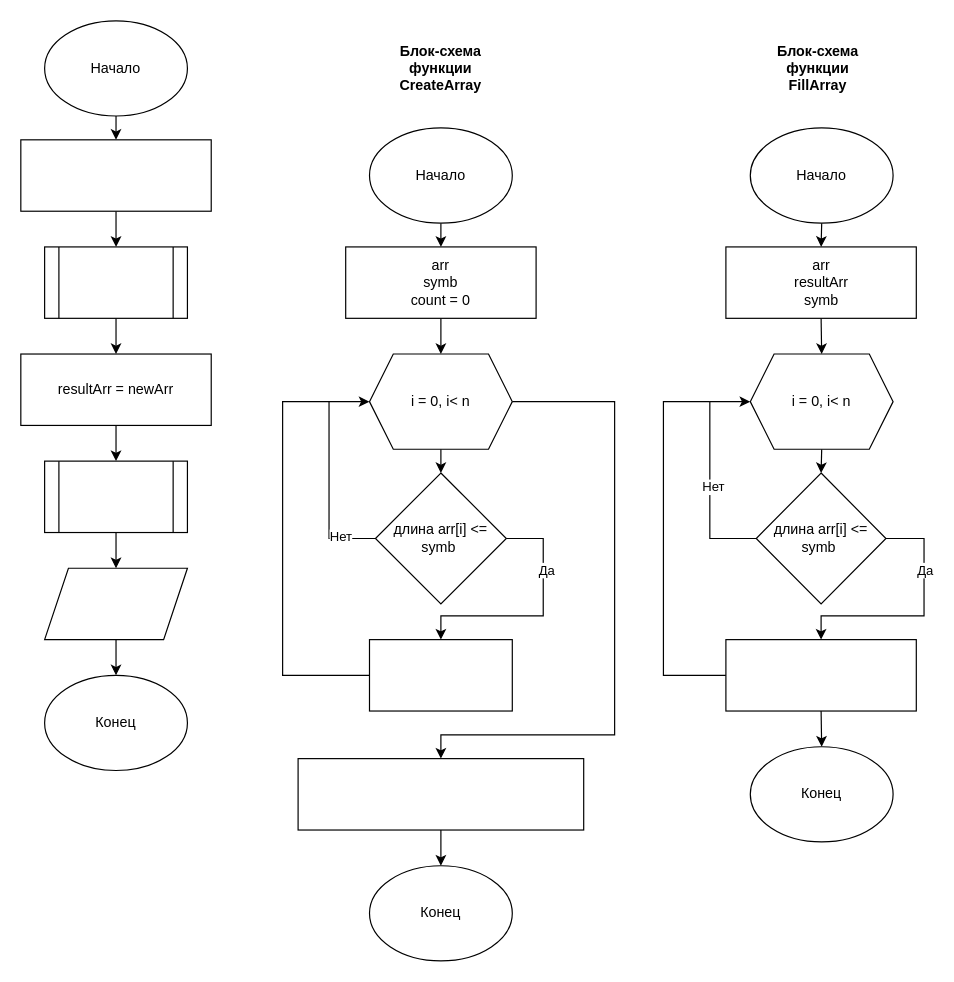
This 954x982 diagram has some shape labels left out. The shapes that lost their labels are listed below. From the top down, each one's centre as x and y in pixels, then its label:
At [115,175]: "arr = arr[0]...arr[n] count = 0 symb = 3".
At [115,282]: "CreateArray".
At [115,496]: "FillArray".
At [115,603]: "resultArr".
At [440,674]: "count += 1".
At [820,674]: "resultArr[count] = arr[i] count += 1".
At [440,793]: "newArr = newArr [0]...newArr [count]".
